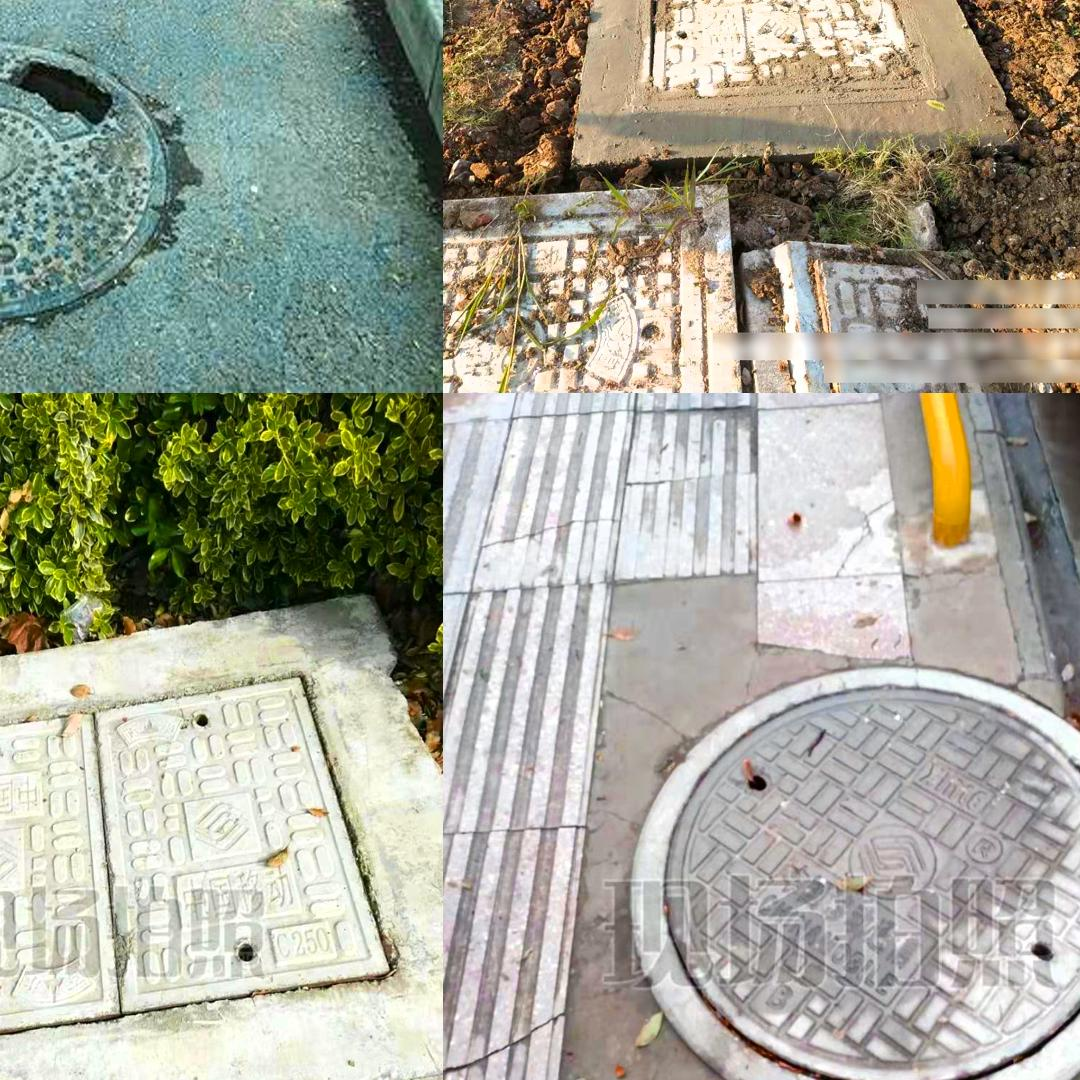good: (632, 663, 1080, 1080), (0, 688, 427, 1064), (0, 7, 207, 328), (443, 183, 755, 393), (633, 0, 947, 111)
